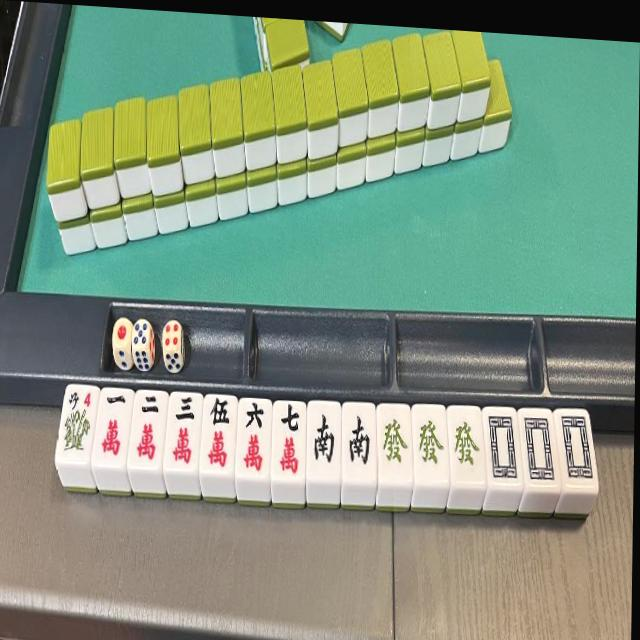1C: (95, 390, 130, 465)
2C: (135, 393, 162, 466)
3C: (166, 394, 199, 470)
4F: (62, 386, 98, 463)
5C: (205, 397, 236, 473)
6C: (240, 400, 271, 477)
7C: (275, 403, 304, 477)
GD: (413, 406, 449, 480), (449, 409, 483, 483), (378, 409, 410, 474)
SW: (343, 406, 374, 471), (310, 406, 338, 467)
WD: (558, 411, 595, 487), (523, 410, 558, 488), (484, 409, 519, 486)
